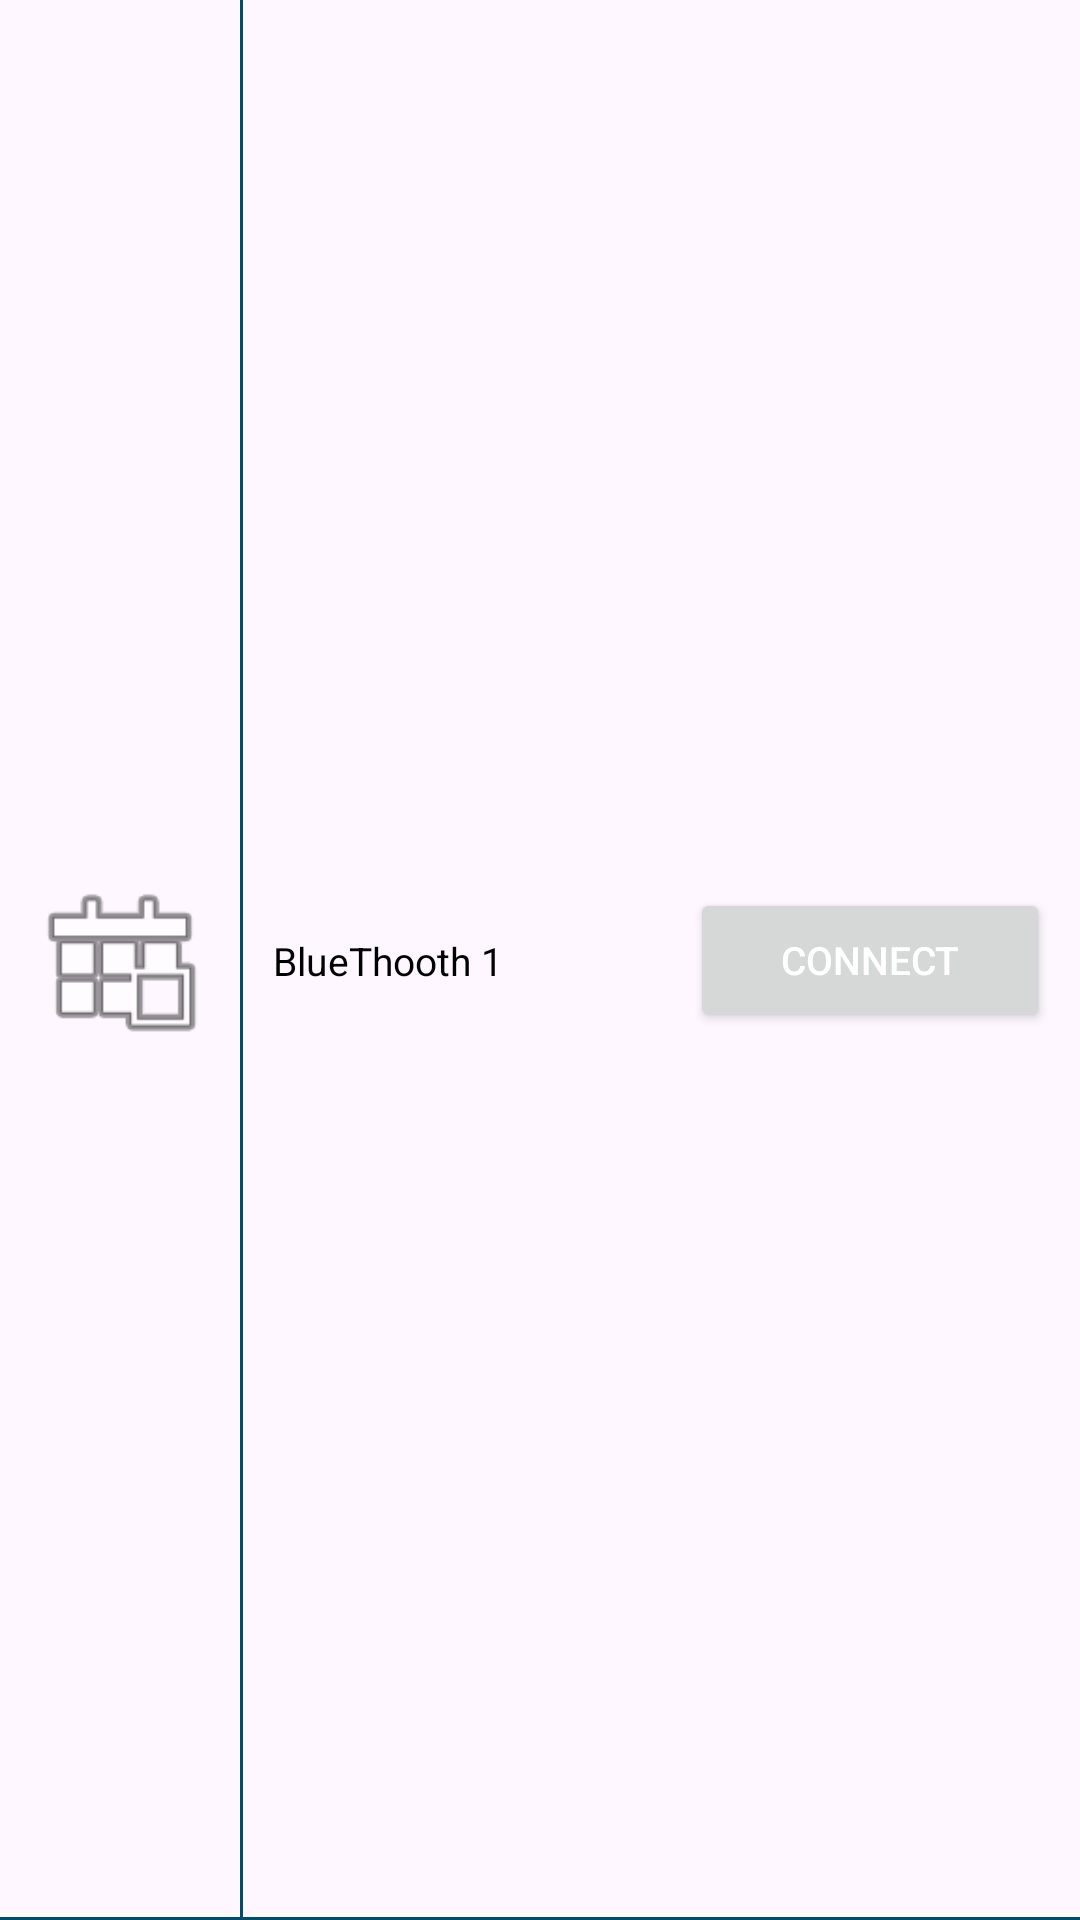

Named icons in this screenshot (1080w x 1920h) and their centers, (x=x, y=y):
today: (x=122, y=962)
